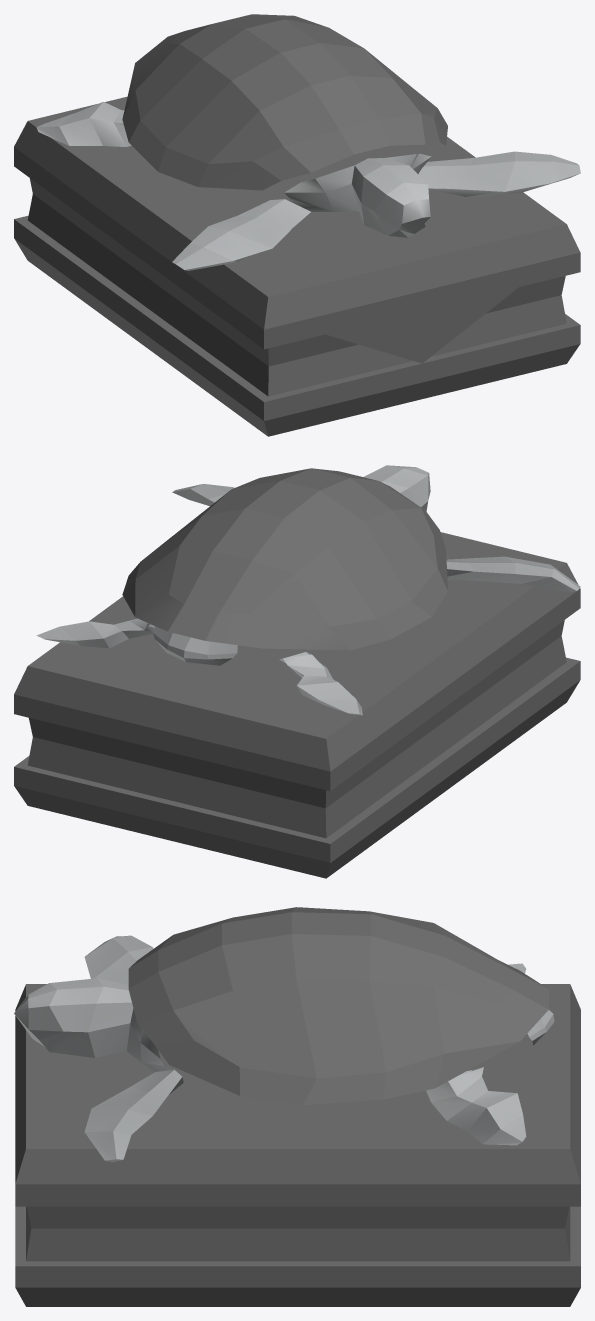
Rendered from Turtle.fbx.
3 renders of one model, top to bottom at view 1: azimuth 30°, elevation 25°; view 2: azimuth 150°, elevation 25°; view 3: azimuth 270°, elevation 25°, orthographic. The views are drawn at different scales.
Parts seen in each view (by area): view 1: Turtle; view 2: Turtle; view 3: Turtle.
Part boxes in pixels (x1,y1,x2,y2): Turtle: (14,14,580,436); Turtle: (14,465,580,878); Turtle: (14,907,580,1306).
Size of the model in its own units: 394 by 248 by 422.
